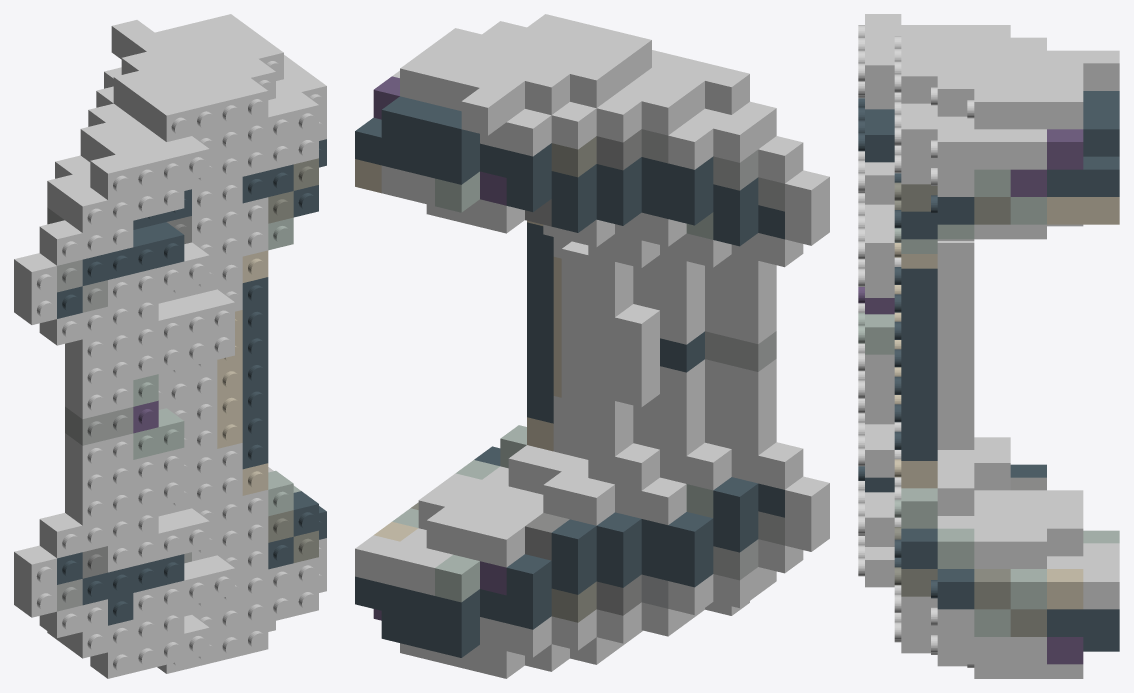
File: full.glb
3 renders of one model, left to right at view 1: azimuth 30°, elevation 25°; view 2: azimuth 150°, elevation 25°; view 3: azimuth 270°, elevation 25°, orthographic. The views are drawn at different scales.
Visible parts, largest first — view 1: world; view 2: world; view 3: world.
Boxes of the visible parts, x1,y1,x2,y2 form: world: (14,14,326,678); world: (355,14,829,678); world: (858,14,1119,678).
Size of the model in its own units: 104 by 168 by 69.
